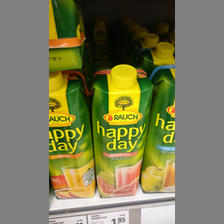juice: (91, 66, 154, 195), (50, 70, 92, 199)
